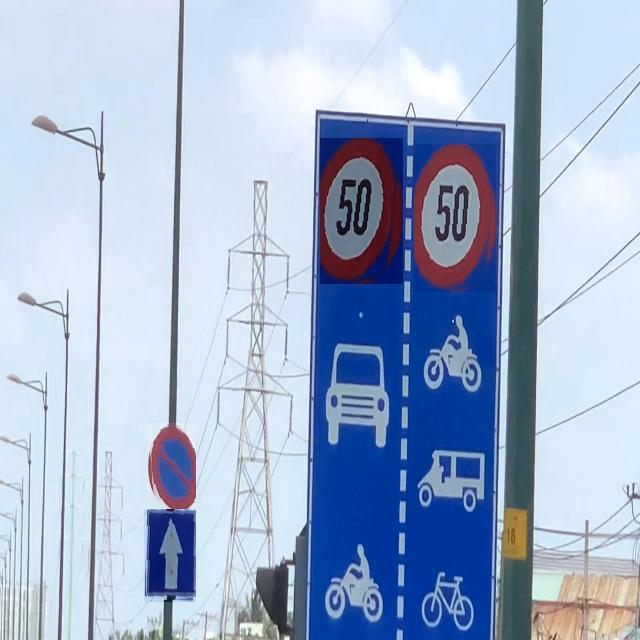P-127: (415, 144, 497, 292), (320, 138, 403, 284)
P-131a: (148, 423, 196, 510)
R-407a: (144, 509, 196, 602)
